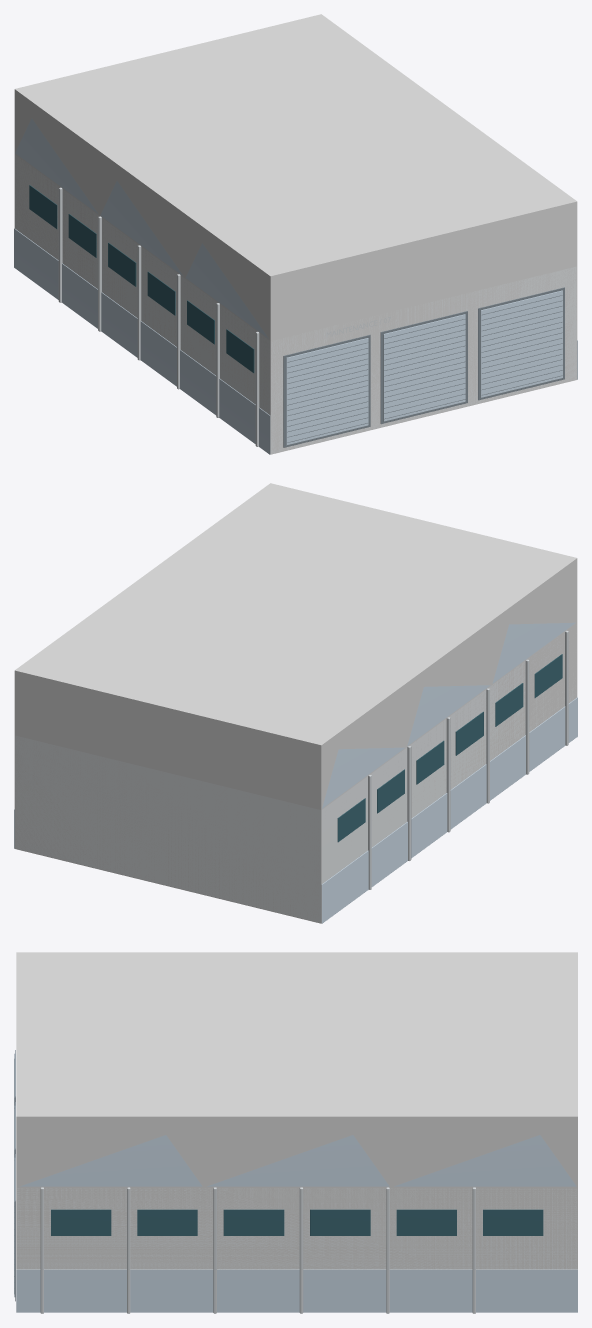
The model's file is m3_maintenance_hangar.glb.
3 renders of one model, top to bottom at view 1: azimuth 30°, elevation 25°; view 2: azimuth 150°, elevation 25°; view 3: azimuth 270°, elevation 25°, orthographic. The views are drawn at different scales.
Visible parts, largest first — view 1: COL_m3_maintenance_hangar, m3_maintenance_hangar_ir_blue, m3_maintenance_hangar_ir_plaster, m3_maintenance_hangar_ir_steel, m3_maintenance_hangar_ir_glass, m3_maintenance_hangar_ir_white; view 2: COL_m3_maintenance_hangar, m3_maintenance_hangar_ir_plaster, m3_maintenance_hangar_ir_blue, m3_maintenance_hangar_ir_glass, m3_maintenance_hangar_ir_white; view 3: COL_m3_maintenance_hangar, m3_maintenance_hangar_ir_blue, m3_maintenance_hangar_ir_plaster, m3_maintenance_hangar_ir_glass, m3_maintenance_hangar_ir_white, m3_maintenance_hangar_ir_steel.
Part boxes in pixels (x1=…): COL_m3_maintenance_hangar: x1=14, y1=14, x2=577, y2=454; m3_maintenance_hangar_ir_blue: x1=14, y1=118, x2=577, y2=454; m3_maintenance_hangar_ir_plaster: x1=15, y1=154, x2=576, y2=453; m3_maintenance_hangar_ir_steel: x1=283, y1=287, x2=564, y2=447; m3_maintenance_hangar_ir_glass: x1=29, y1=185, x2=254, y2=373; m3_maintenance_hangar_ir_white: x1=58, y1=187, x2=390, y2=446; COL_m3_maintenance_hangar: x1=14, y1=483, x2=577, y2=923; m3_maintenance_hangar_ir_plaster: x1=15, y1=633, x2=576, y2=922; m3_maintenance_hangar_ir_blue: x1=14, y1=622, x2=577, y2=923; m3_maintenance_hangar_ir_glass: x1=337, y1=654, x2=562, y2=842; m3_maintenance_hangar_ir_white: x1=368, y1=630, x2=568, y2=889; COL_m3_maintenance_hangar: x1=16, y1=952, x2=577, y2=1269; m3_maintenance_hangar_ir_blue: x1=14, y1=1053, x2=577, y2=1312; m3_maintenance_hangar_ir_plaster: x1=17, y1=1188, x2=577, y2=1269; m3_maintenance_hangar_ir_glass: x1=51, y1=1209, x2=543, y2=1235; m3_maintenance_hangar_ir_white: x1=40, y1=1187, x2=475, y2=1313; m3_maintenance_hangar_ir_steel: x1=14, y1=1050, x2=15, y2=1301.
Bounding box in the file's own units: 18.3 × 10 × 26.11.
